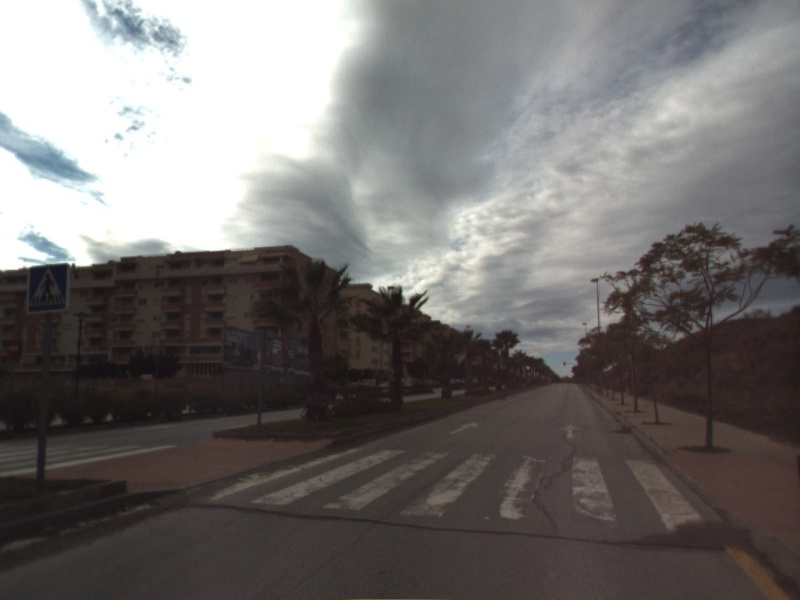STRAIGHT: (448, 419, 479, 436), (558, 422, 583, 440)
